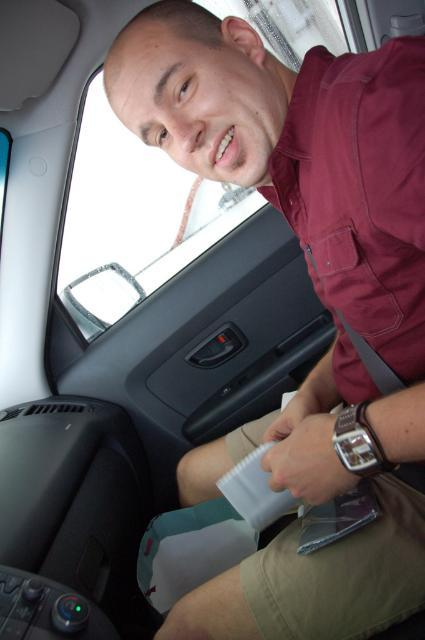SafeDriving: (168, 66, 200, 109)
Seatbelt: (306, 252, 408, 396)
